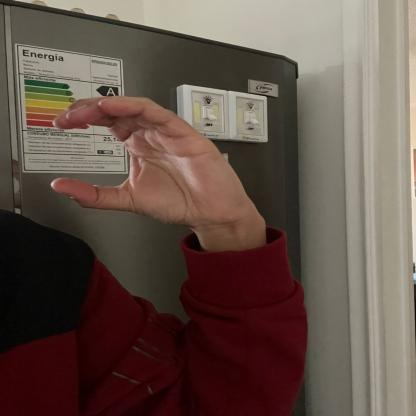C: (45, 90, 257, 244)
